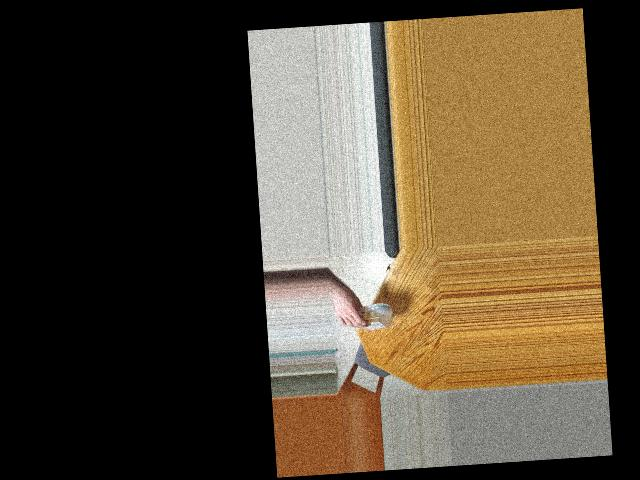cheese: (353, 285, 394, 340)
